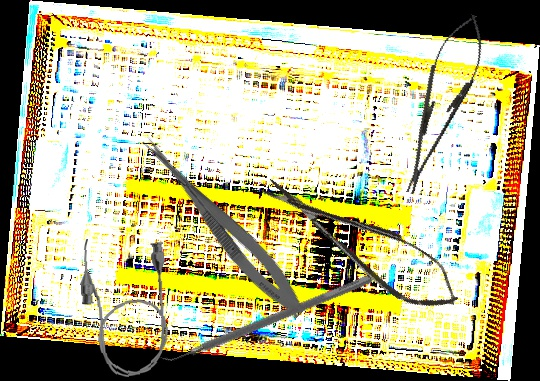Cannula: (76, 232, 175, 380)
Micro Scissor: (254, 157, 470, 327), (130, 130, 314, 325)
Needle Holder: (387, 7, 496, 201)
Spatula Surgical: (155, 264, 374, 372)
